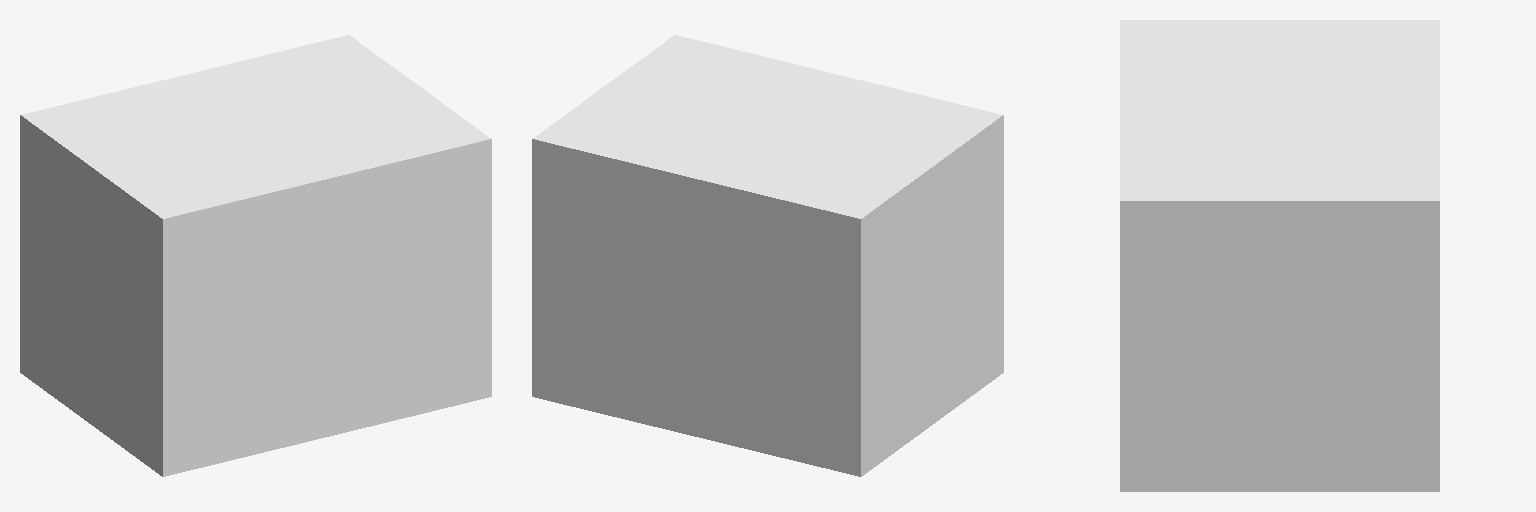
URDF robot description (model.urdf):
<?xml version="0.0" ?>
<robot name="model.urdf">
  <link name="baseLink">
    <contact>
      <friction_anchor/>
      <lateral_friction value="0.5"/>
      <contact_cfm value="0.0"/>
      <contact_erp value="1.0"/>
    </contact>
    <inertial>
       <origin rpy="0 0 0" xyz="0 0 0"/>
       <mass value="0.5"/>
       <inertia ixx="1e-3" ixy="0" ixz="0" iyy="1e-3" iyz="0" izz="1e-3"/>
    </inertial>
    <visual>
      <geometry>
        <mesh filename="textured.obj" scale="1 1 1"/>
      </geometry>
      <material name="white">
        <color rgba="1. 1. 1. 1."/>
      </material>
    </visual>
    <collision>
      <geometry>
        <mesh filename="textured.obj" scale="1 1 1"/>
      </geometry>
    </collision>
  </link>
</robot>

--- Facts derived from the render (not from the file) ---
3 views of the same robot in one strip: view 1: azimuth 30°, elevation 25°; view 2: azimuth 150°, elevation 25°; view 3: azimuth 270°, elevation 25° (orthographic).
Robot: model.urdf — 1 links, 0 joints (none); root link baseLink; default pose: every joint at zero.
Visible links, largest first — view 1: baseLink; view 2: baseLink; view 3: baseLink.
Boxes of the visible links, x1,y1,x2,y2 form: baseLink: [20, 35, 491, 476]; baseLink: [532, 35, 1003, 476]; baseLink: [1120, 20, 1439, 491].
Size in the robot's own frame: 0.4 by 0.3 by 0.3 metres.
Meshes: 1 distinct files referenced, 1 mesh visuals loaded (1 OBJ).
